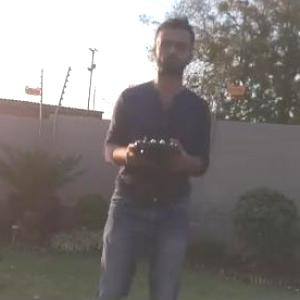follow: (87, 10, 217, 299)
